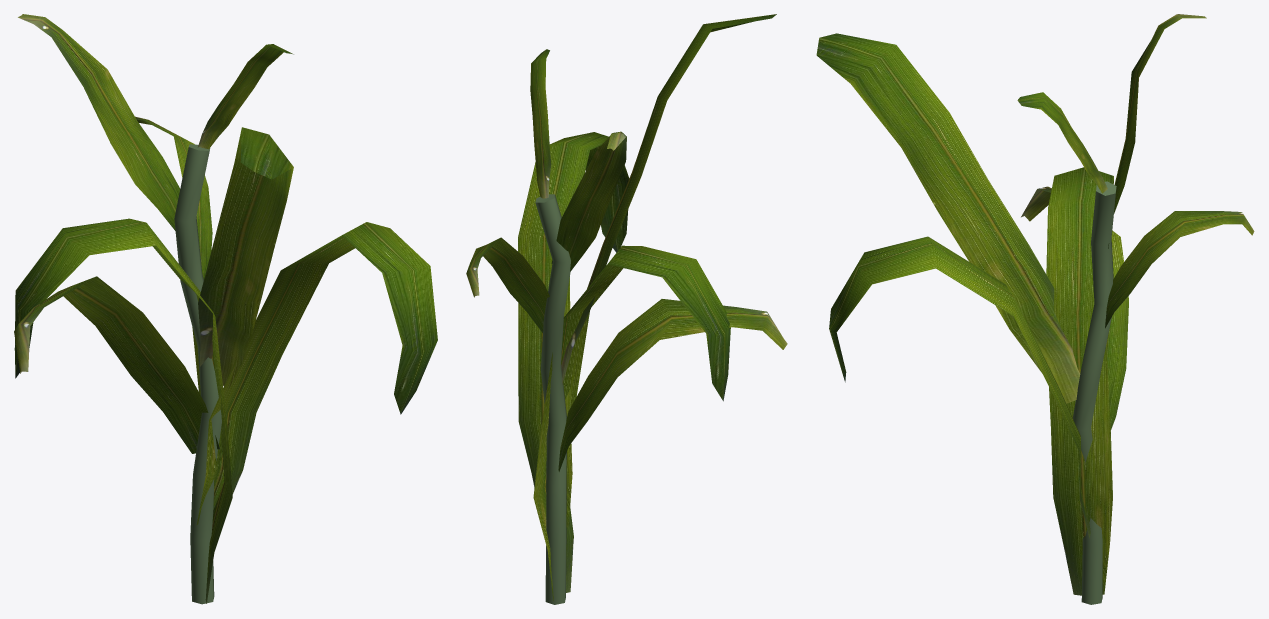
The model's file is milho4.fbx.
3 views of the same model, side by side, from view 1: azimuth 30°, elevation 25°; view 2: azimuth 150°, elevation 25°; view 3: azimuth 270°, elevation 25° (orthographic). The views are drawn at different scales.
Visible parts, largest first — view 1: milho4; view 2: milho4; view 3: milho4.
Boxes of the visible parts, x1,y1,x2,y2 form: milho4: [14, 14, 437, 604]; milho4: [466, 14, 787, 604]; milho4: [816, 14, 1254, 604].
Bounding box in the file's own units: 231 × 387 × 288.
